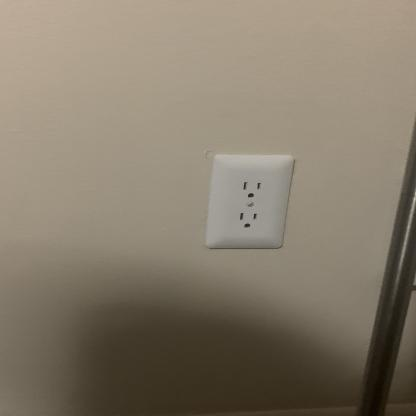OUTLET: (205, 154, 289, 248)
